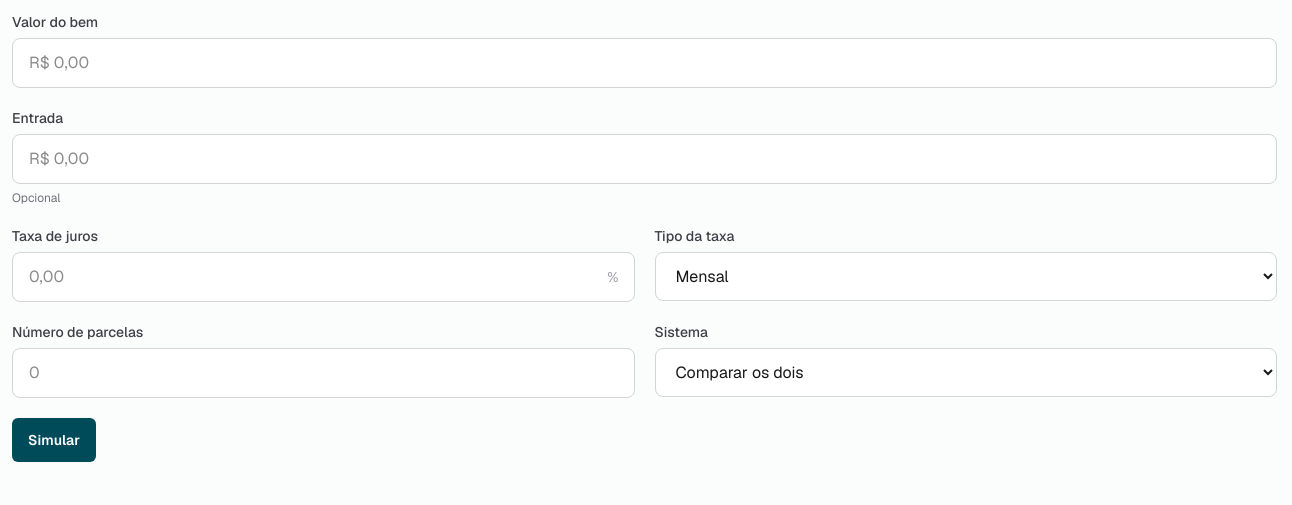
it: FinancingForm — validações › rejeita número de parcelas não inteiro
This screenshot has width=1292, height=505.
In the field labelled "Valor do bem": x=644, y=63 12,38 -> 1277,88, type "1000000"
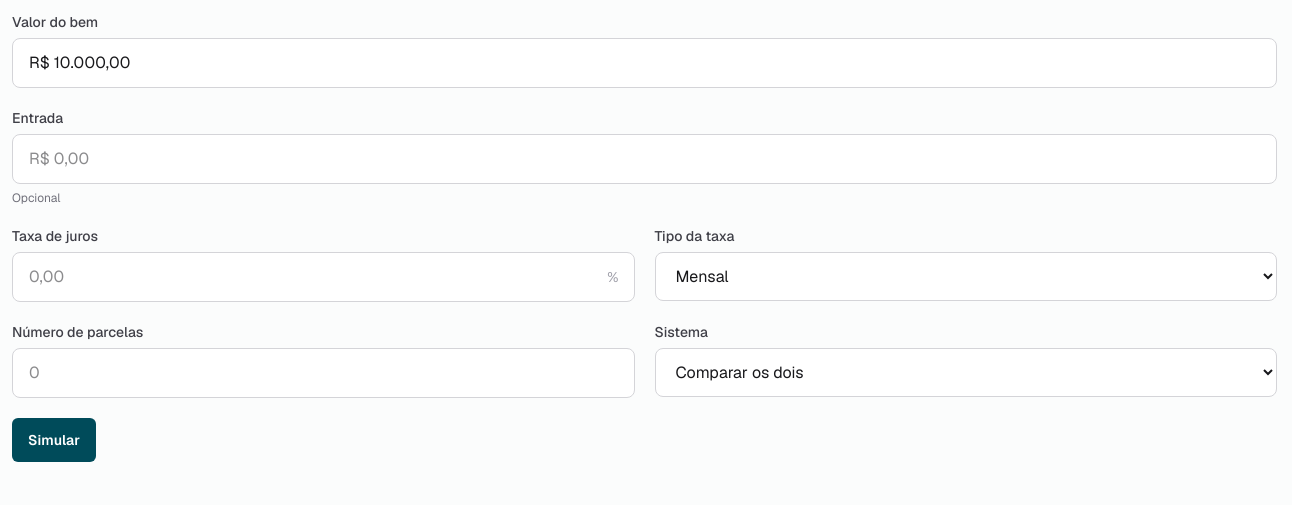
In the field labelled "Taxa de juros": x=323, y=277 12,252 -> 634,302, type "2"
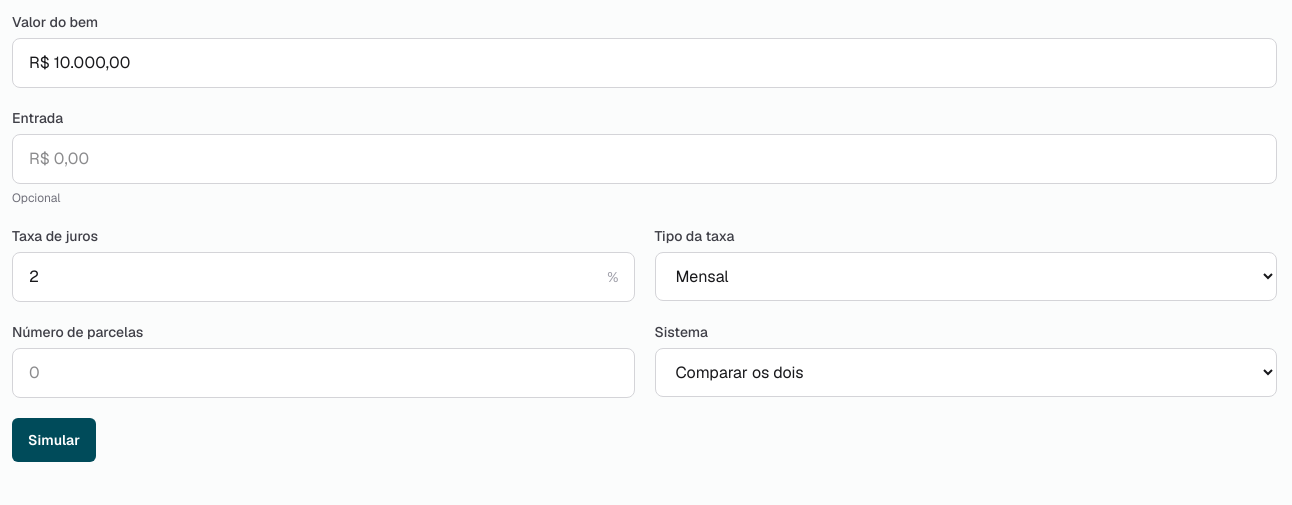
In the field labelled "Número de parcelas": x=323, y=373 12,348 -> 634,398, type "2.5"
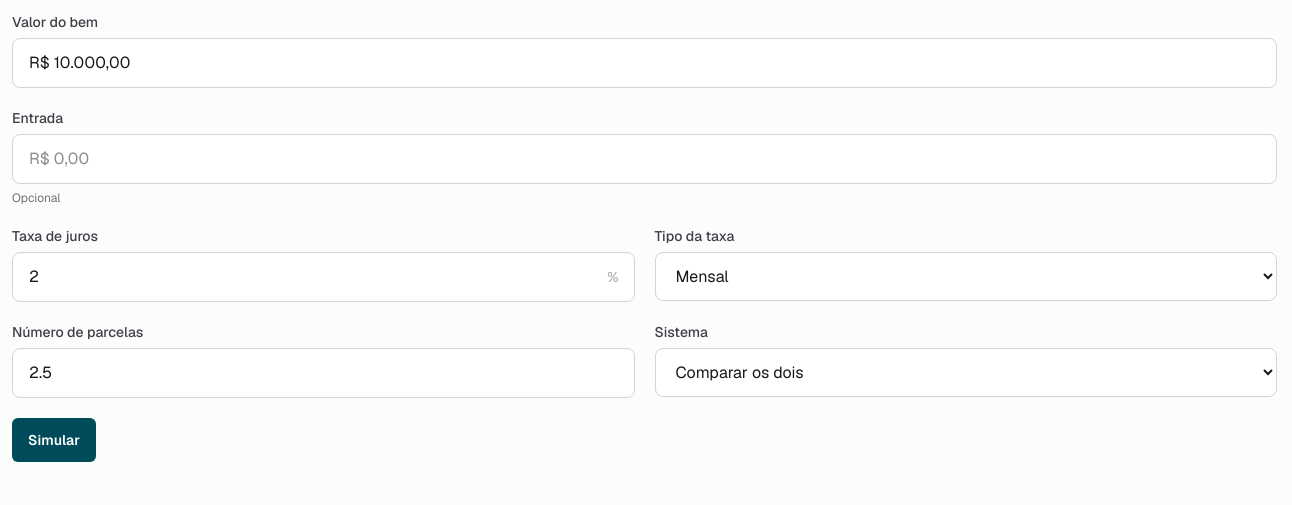
Click the button "Simular": x=54, y=440 12,418 -> 96,462
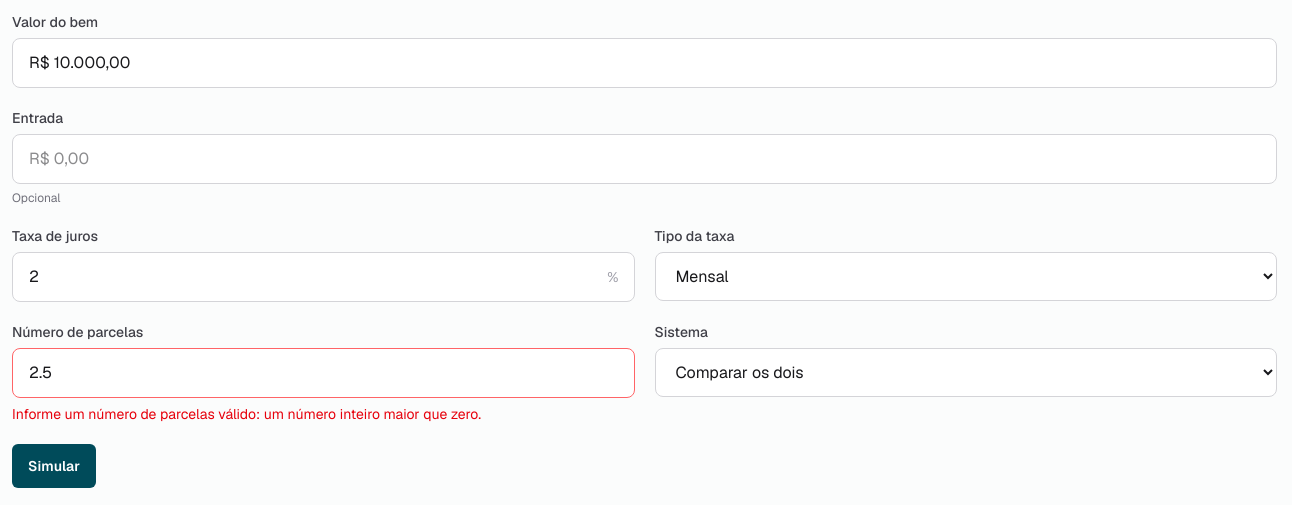
Check: the text "Informe um número de parcelas válido: um número inteiro maior que zero." is shown, box 12,405 -> 481,423
